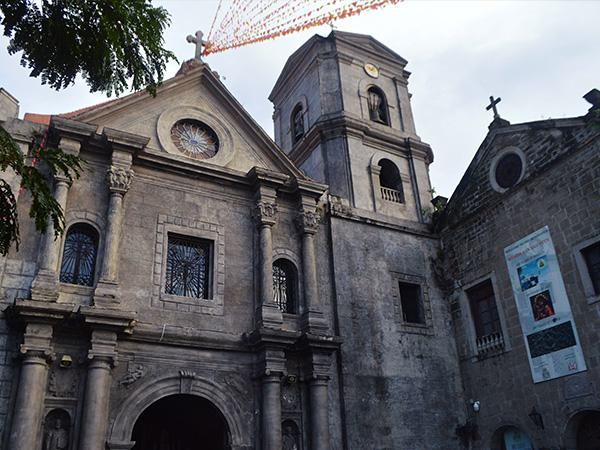Environmental Damage: (421, 192, 451, 234)
San Agustin Church: (25, 26, 470, 450)
